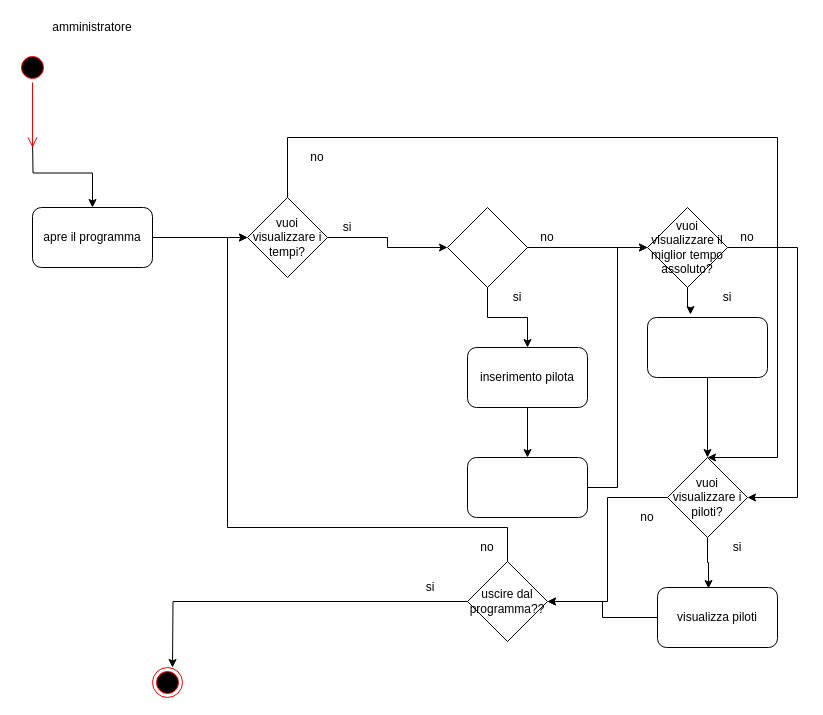
Image size: 823x715. Some labels were removed from this diagram. The centre of each missing label's shape, as x and y in pixels:
"visualizzazione miglior tempo" goes at [707,347].
"visualizzazione tempo" goes at [527,487].
"vuoi visualizzare il miglior tempo di un pilota??" goes at [487,247].
